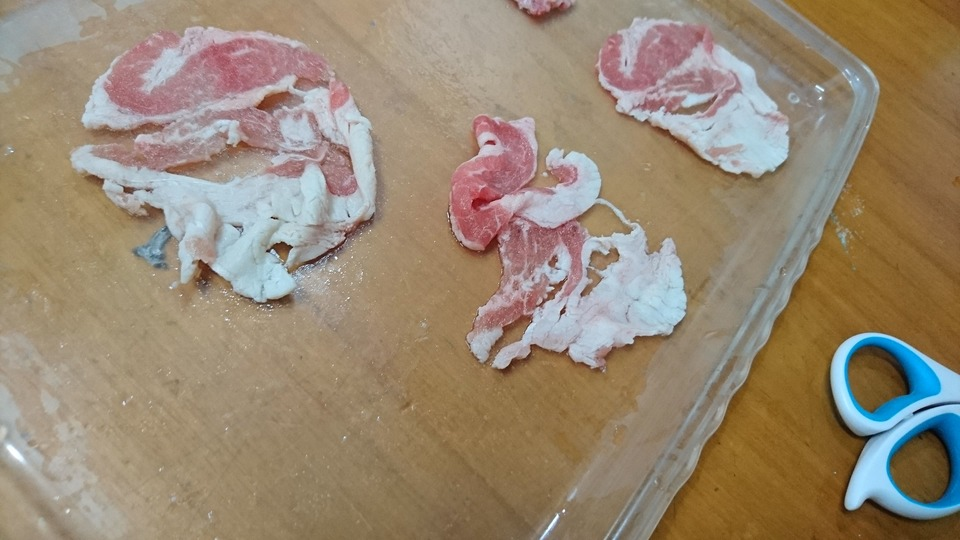restructured meat: (66, 18, 379, 313), (449, 109, 693, 369), (593, 6, 791, 180)
